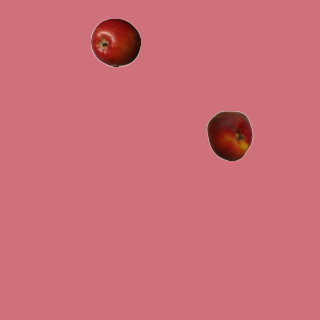Apple Braeburn: (90, 17, 140, 67)
Nectarine Flat: (204, 110, 254, 160)
